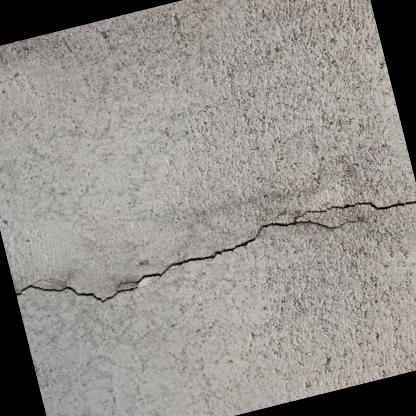crack: (15, 199, 416, 304)
